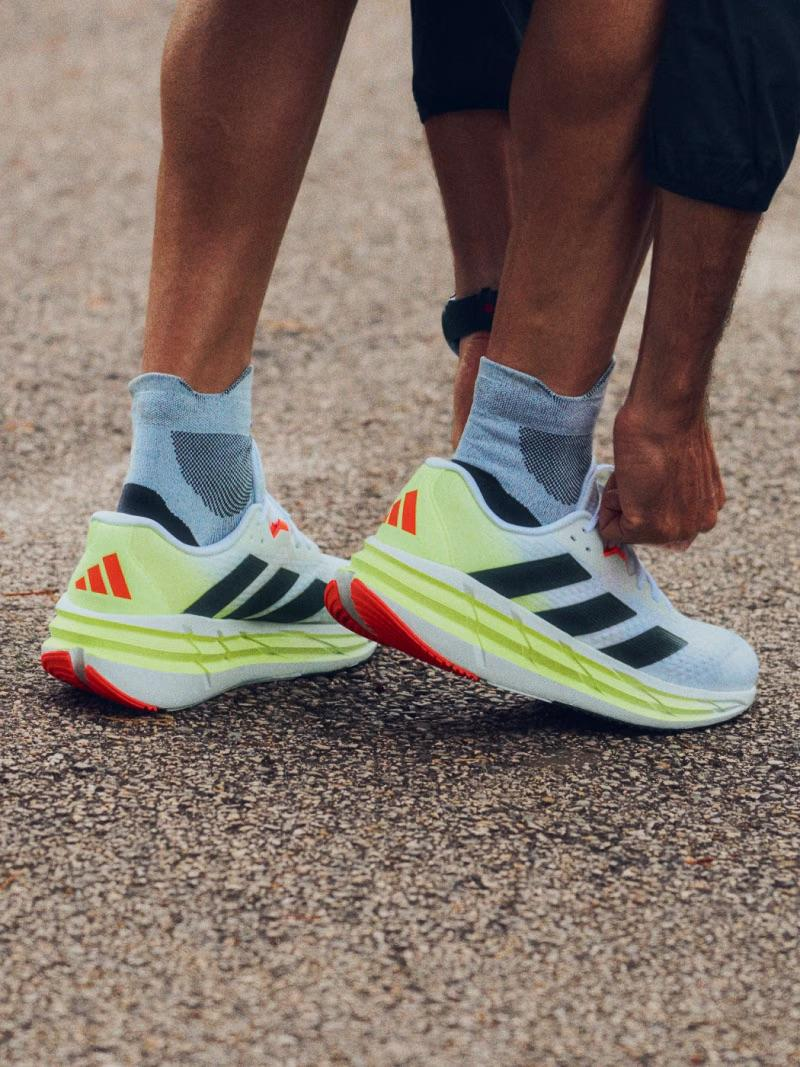adidas logo: (464, 534, 706, 683), (156, 544, 347, 630), (67, 541, 143, 609)
